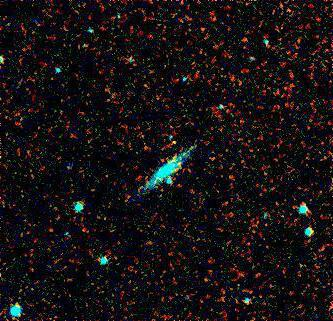star: (165, 130, 195, 160)
